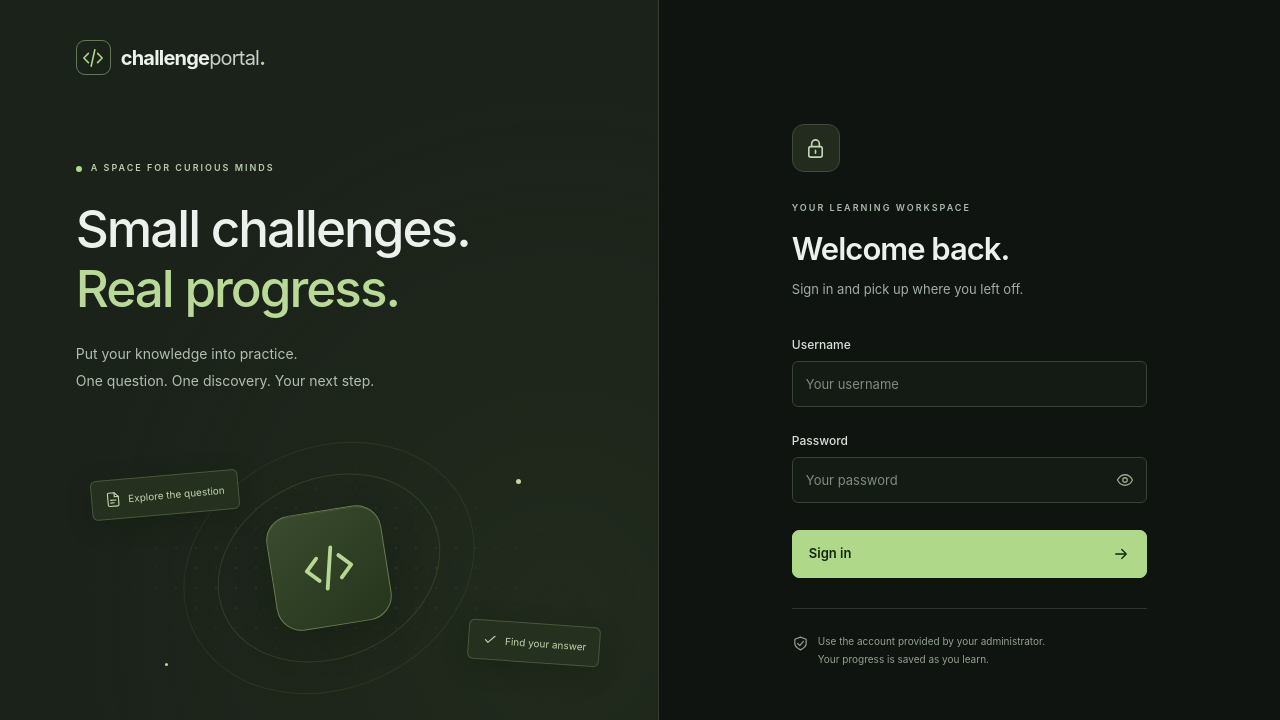
Scenario: session and role navigation › shows generic invalid-login feedback and the retry interval on throttling
Step 1. Type "learner" into the field labelled "Username" → (969,384), box [792, 361, 1147, 407]
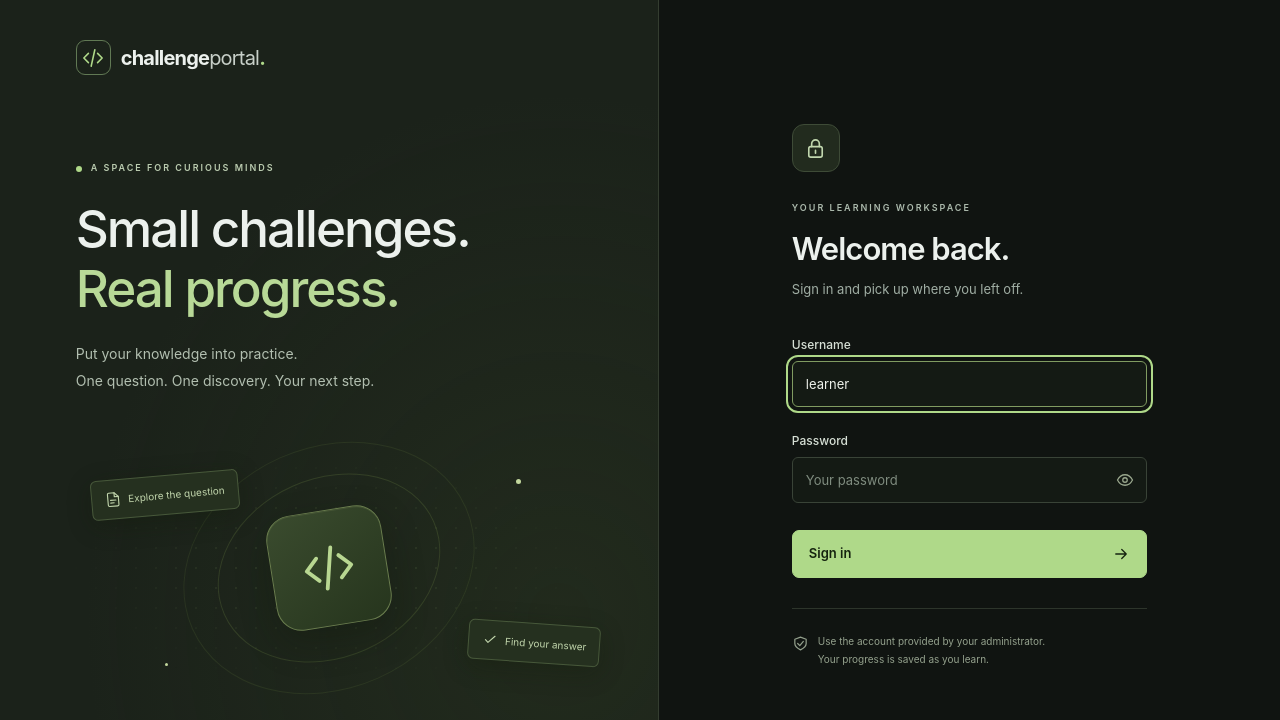
Step 2. Type "fixture password" into the password field labelled "Password" → (969,480), box [792, 457, 1147, 503]
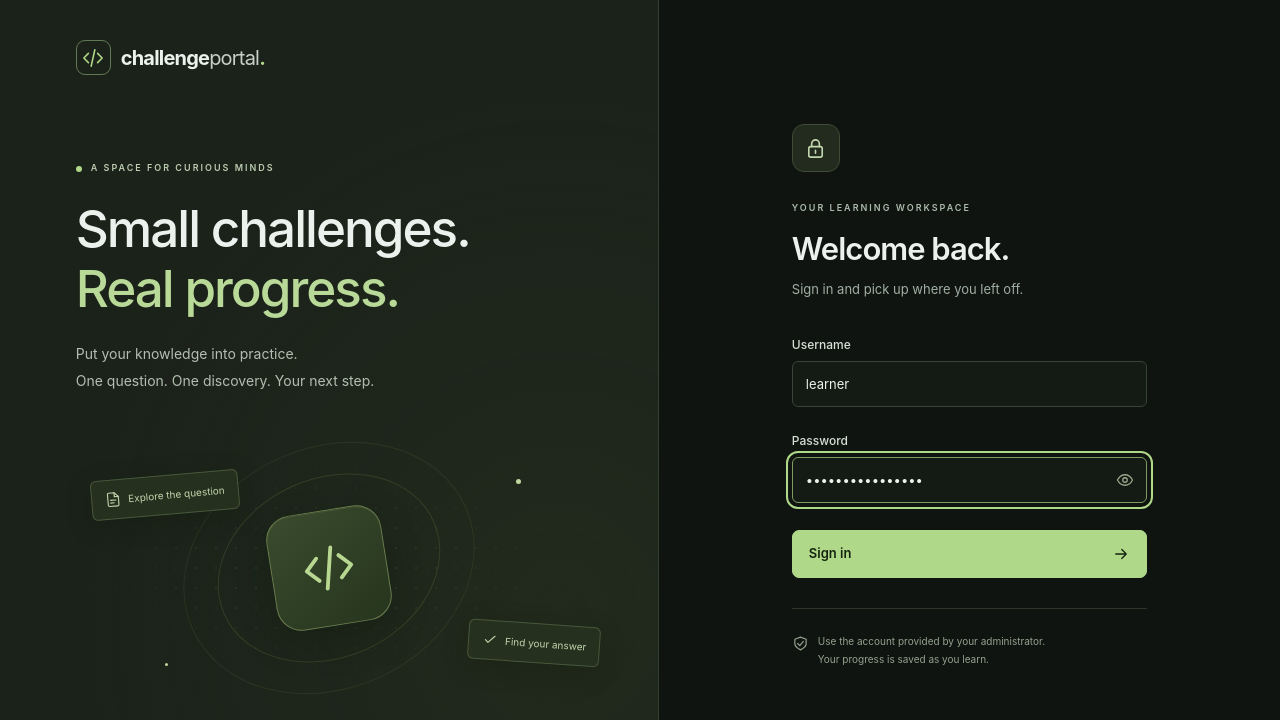
Step 3. Click the button "Sign in" → (830,553), box [792, 530, 1147, 578]
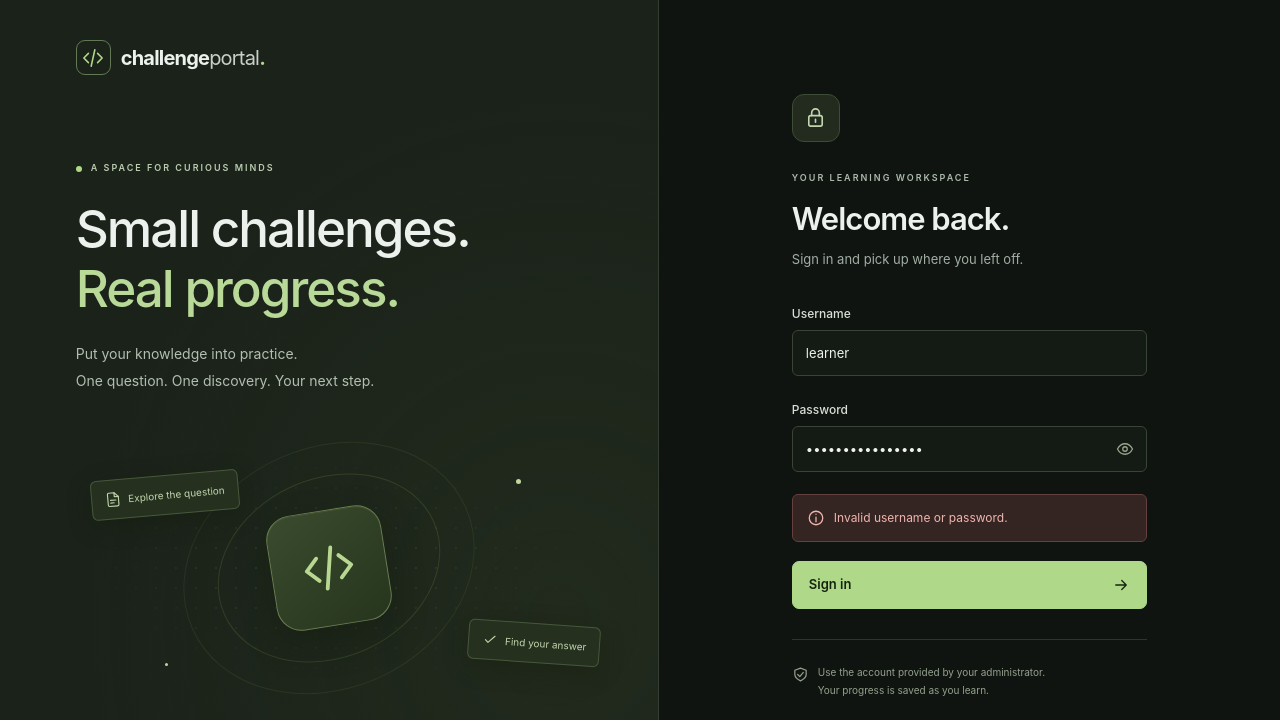
Check: the text "Invalid username or password." is shown, box [834, 508, 1008, 528]
Step 4. Click the button "Sign in" → (830,584), box [792, 560, 1147, 608]
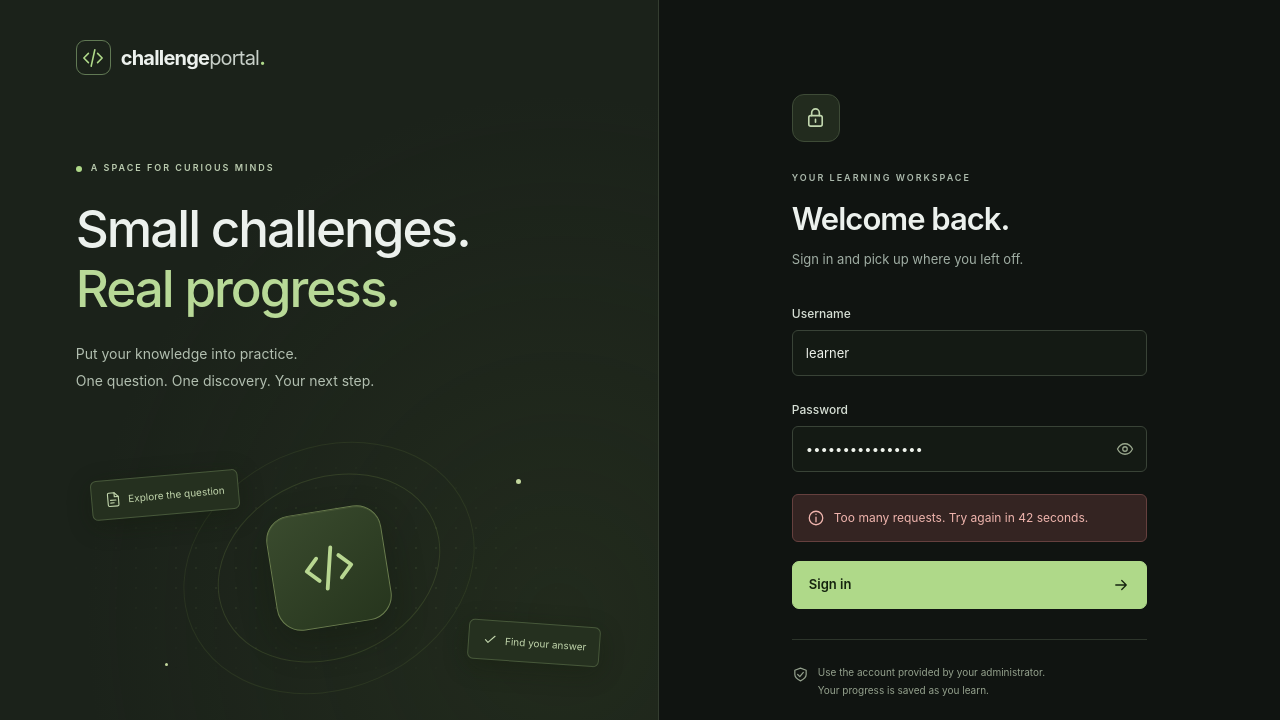
Check: the text "Too many requests. Try again in 42 seconds." is shown, box [834, 508, 1088, 528]
